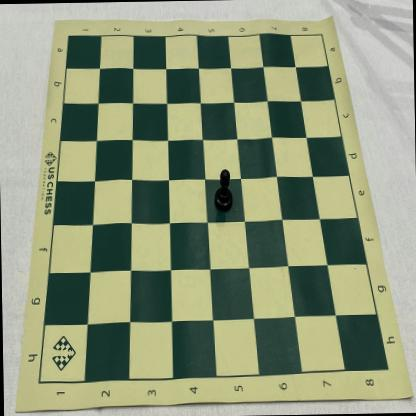black-pawn: (213, 168, 233, 212)
